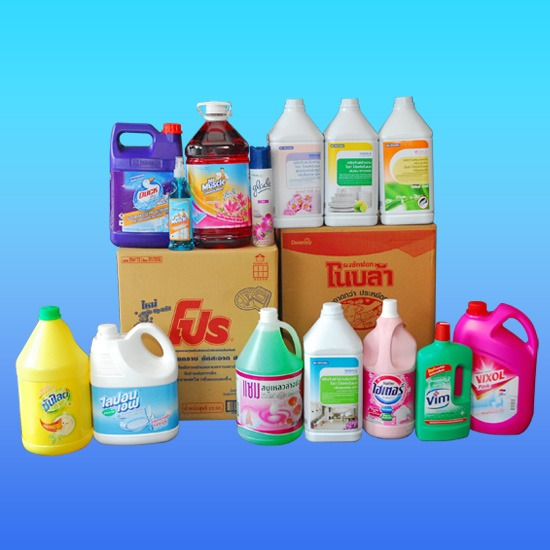Cleaning_solution: (449, 292, 539, 442), (83, 321, 184, 449), (13, 303, 94, 458), (103, 116, 185, 255), (181, 99, 255, 252), (231, 304, 308, 451), (298, 299, 367, 446), (355, 292, 421, 441), (375, 87, 442, 229), (320, 93, 384, 230), (409, 314, 477, 442), (266, 96, 325, 232), (164, 154, 198, 254)
